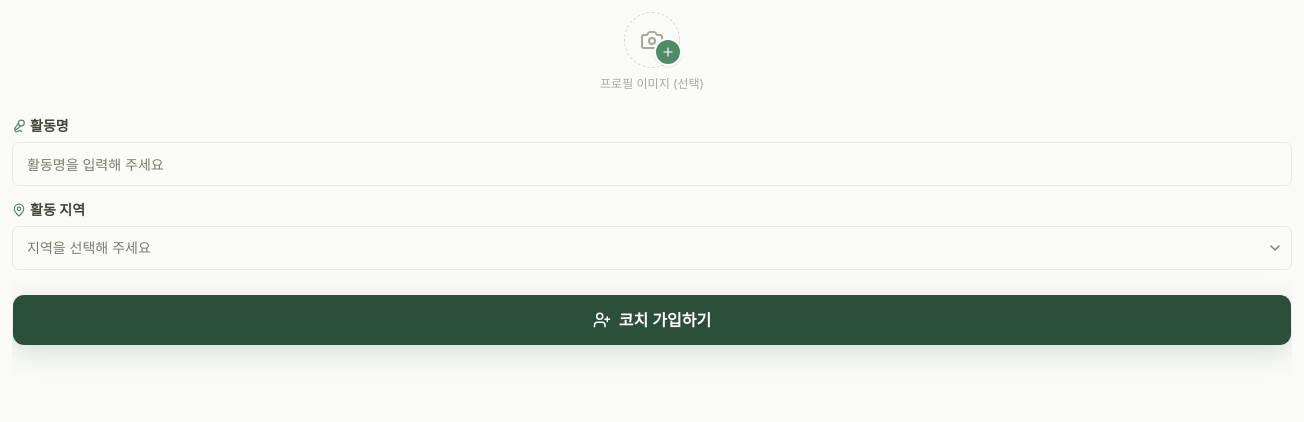
it: CoachRegisterForm › 빈 상태로 제출하면 "활동명을 입력해 주세요." 에러 메시지 표시
Click the button "코치 가입하기" at [652, 320], box [12,294,1292,346]
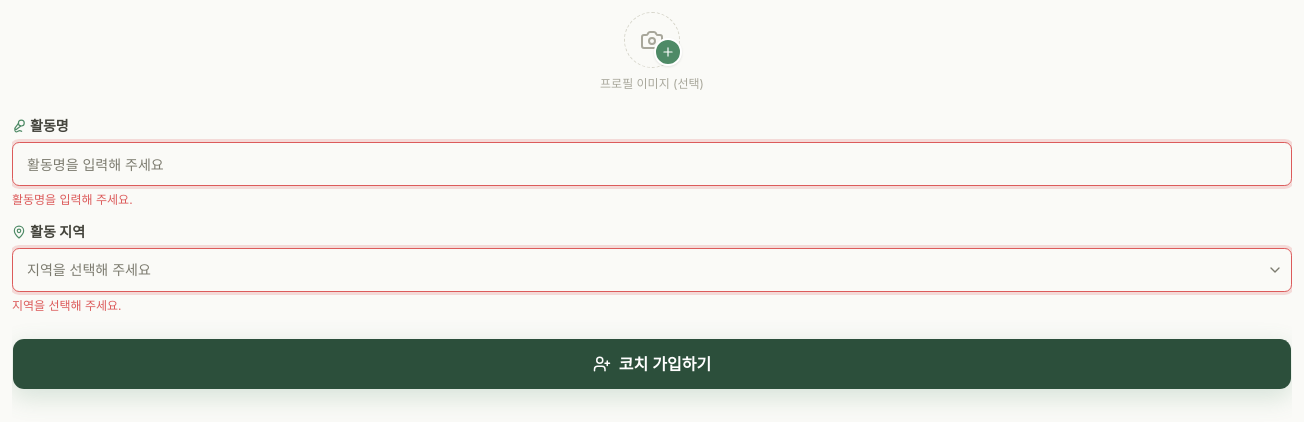
Result: the text "활동명을 입력해 주세요." is shown at [12,192,133,207]
Result: the text "지역을 선택해 주세요." is shown at [12,298,122,313]
